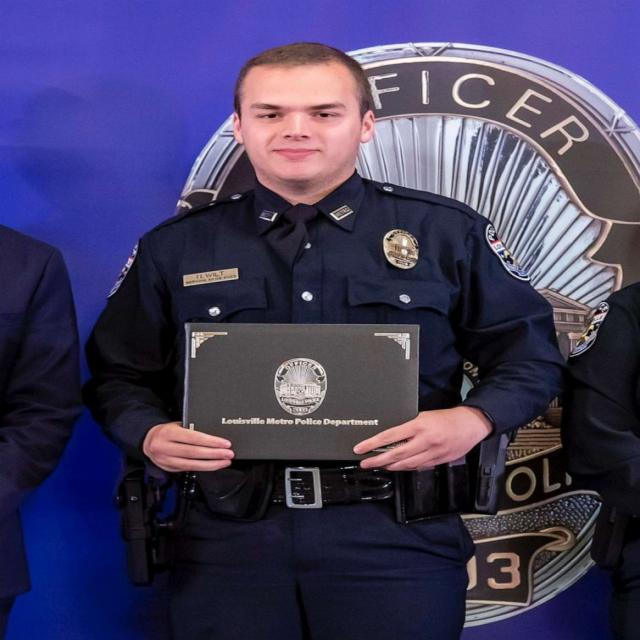police: (95, 27, 518, 640)
